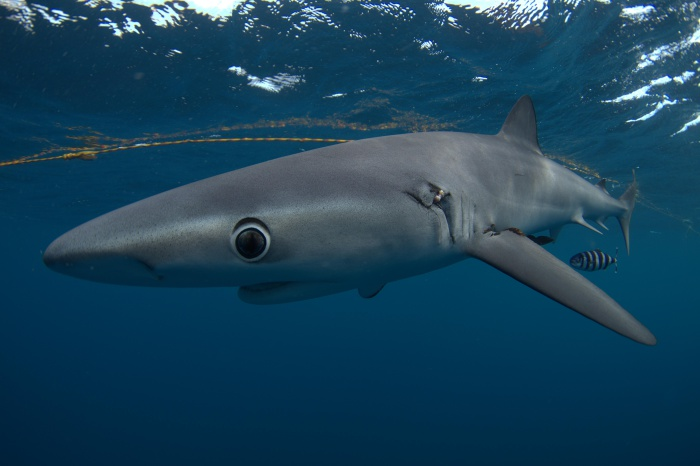Azul: (29, 99, 700, 364), (279, 290, 491, 441)
